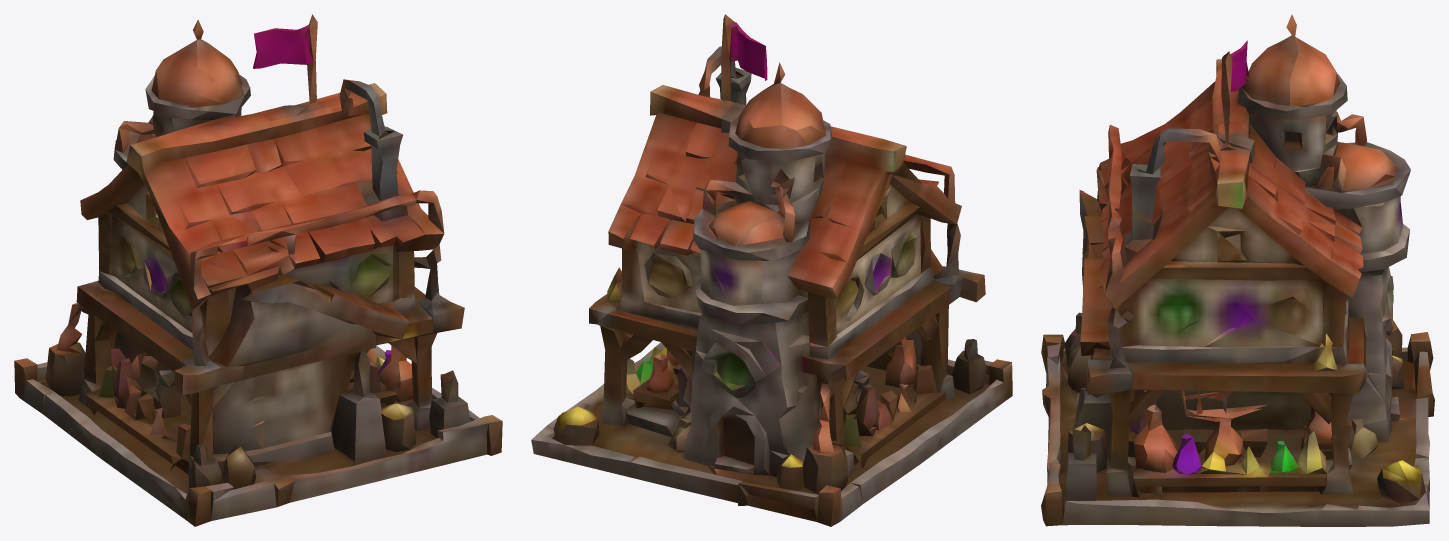
The model's file is alchemist2.lod2.glb.
3 views of the same model, side by side, from view 1: azimuth 30°, elevation 25°; view 2: azimuth 150°, elevation 25°; view 3: azimuth 270°, elevation 25° (orthographic). The views are drawn at different scales.
Parts seen in each view (by area): view 1: alchemist2.lod2_uv; view 2: alchemist2.lod2_uv; view 3: alchemist2.lod2_uv.
Boxes of the visible parts, x1=… form: alchemist2.lod2_uv: x1=14, y1=14, x2=502, y2=526; alchemist2.lod2_uv: x1=531, y1=14, x2=1012, y2=526; alchemist2.lod2_uv: x1=1041, y1=14, x2=1434, y2=526.
Bounding box in the file's own units: 1.55 × 1.9 × 1.6.
1 material, 1 textured.
